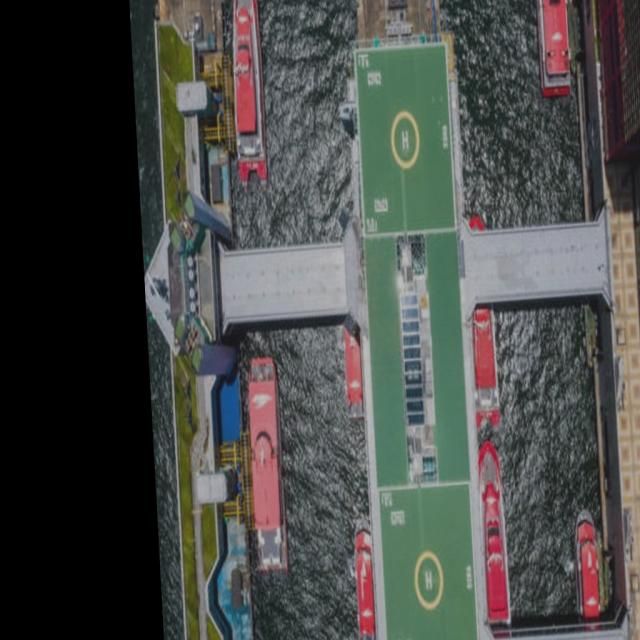helipad: (385, 107, 424, 170), (411, 549, 445, 611)
